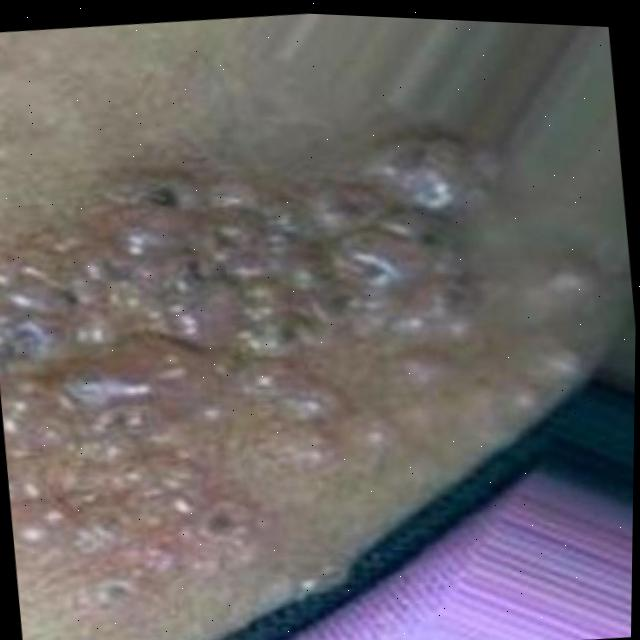Shingles: (0, 90, 624, 611)
